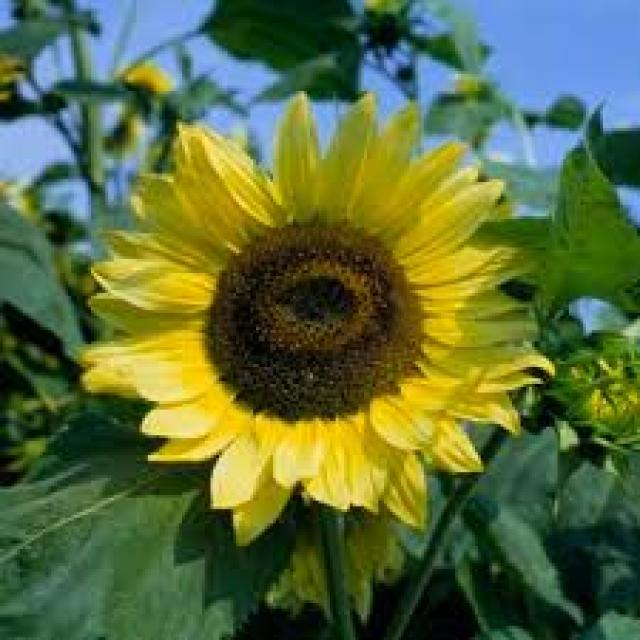sunflower: (74, 84, 569, 556), (112, 56, 198, 104)
